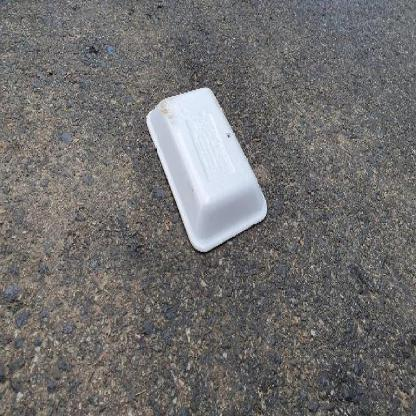Glass Cup: (146, 86, 267, 254), (146, 87, 267, 252)
